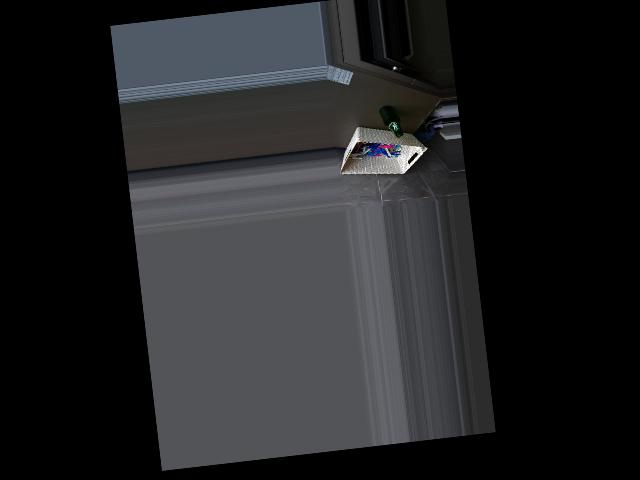beer: (378, 104, 403, 139)
